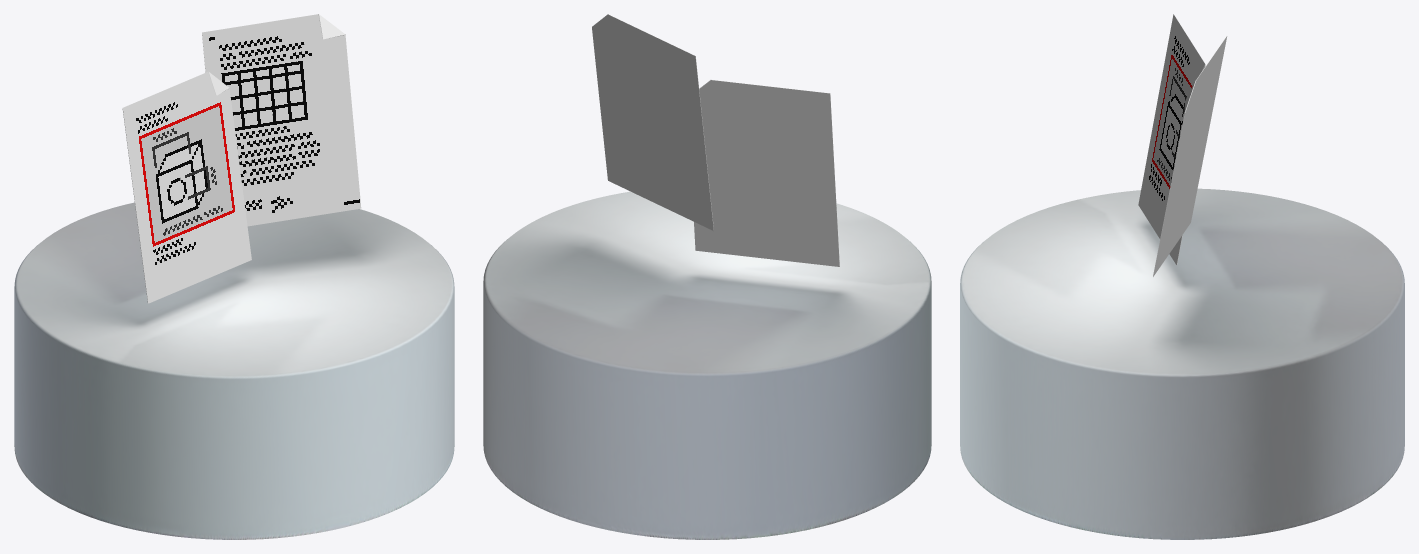
Rendered from article.glb.
The picture shows the model from 3 angles, left to right: view 1: azimuth 30°, elevation 25°; view 2: azimuth 150°, elevation 25°; view 3: azimuth 270°, elevation 25°; orthographic projection.
Visible parts, largest first — view 1: Plane.003, Plane.002, Plane.001; view 2: Plane.003, Plane.001, Plane.002; view 3: Plane.003, Plane.001, Plane.002.
Part boxes in pixels (left/top/right/bottom): Plane.003: left=14, top=202, right=454, bottom=539; Plane.002: left=202, top=14, right=361, bottom=226; Plane.001: left=122, top=71, right=251, bottom=303; Plane.003: left=483, top=191, right=931, bottom=539; Plane.001: left=694, top=80, right=839, bottom=266; Plane.002: left=592, top=14, right=713, bottom=230; Plane.003: left=960, top=188, right=1404, bottom=539; Plane.001: left=1138, top=14, right=1205, bottom=265; Plane.002: left=1153, top=36, right=1227, bottom=276.
Bounding box in the file's own units: 2 × 2.04 × 2.
Materials: 3 (3 with a texture image).
